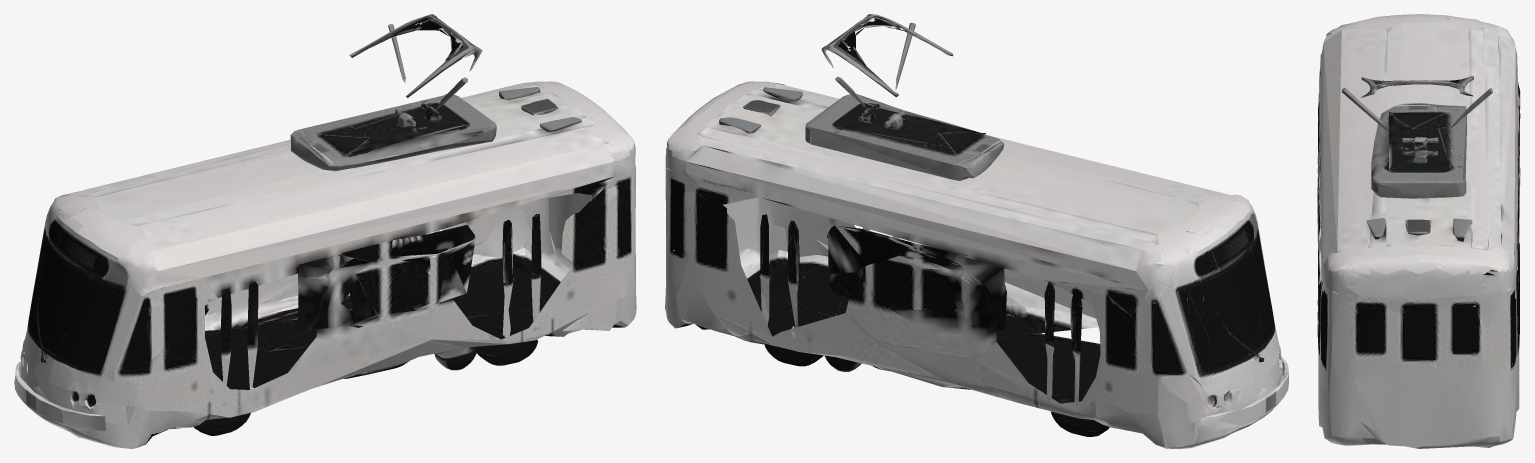
The model's file is tram.glb.
3 views of the same model, side by side, from view 1: azimuth 30°, elevation 25°; view 2: azimuth 150°, elevation 25°; view 3: azimuth 270°, elevation 25° (orthographic).
Visible parts, largest first — view 1: output_unwrapped; view 2: output_unwrapped; view 3: output_unwrapped.
Boxes of the visible parts, bbox=[...] form: output_unwrapped: bbox=[14, 14, 636, 448]; output_unwrapped: bbox=[665, 14, 1288, 448]; output_unwrapped: bbox=[1317, 14, 1520, 448].
Size of the model in its own units: 0.9519 by 0.5036 by 0.2964.
Materials: 1 (1 with a texture image).
